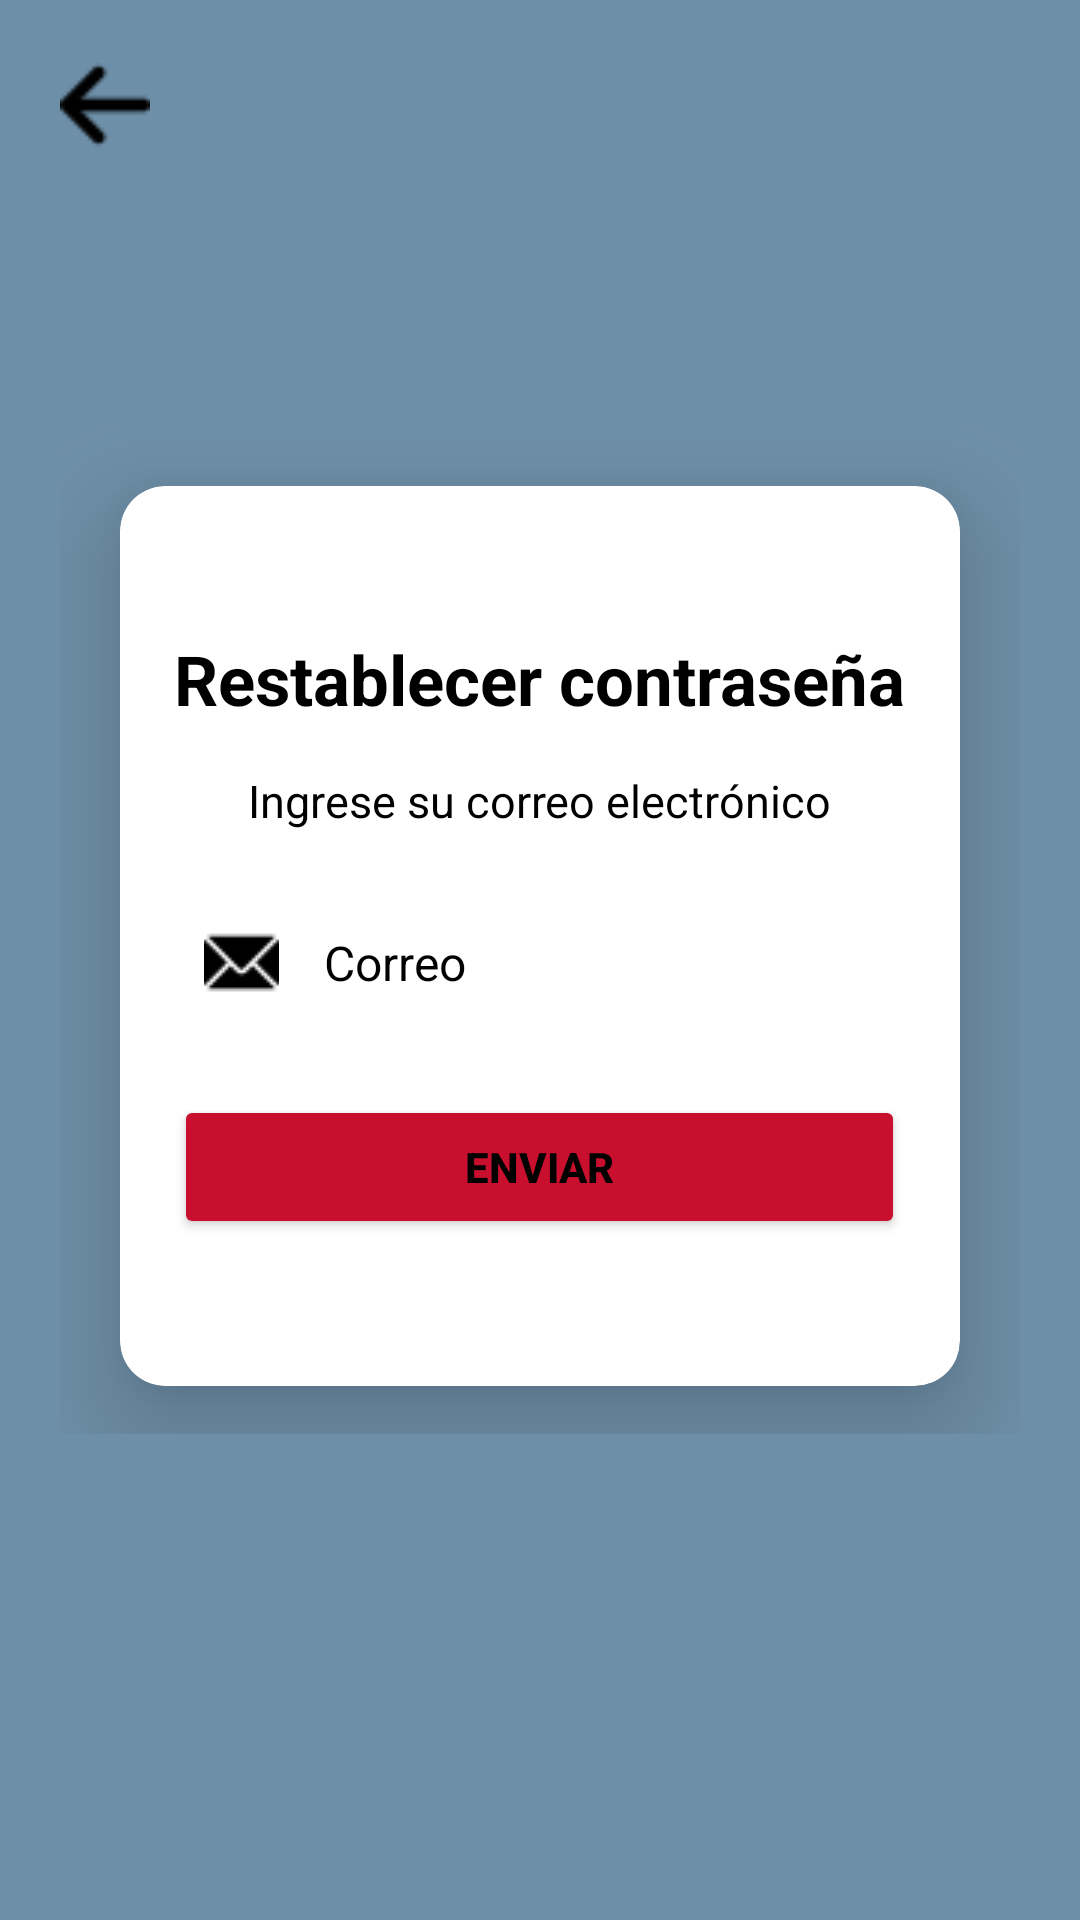

Point at icon controls on the screen. Image size 1080 × 1920, points as (x=x, y=y).
arrow: (x=105, y=105)
